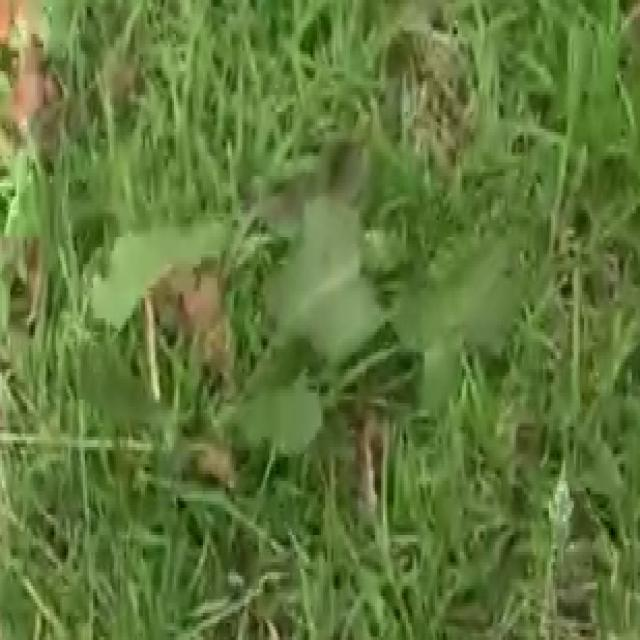organic waste: (66, 159, 541, 539)
